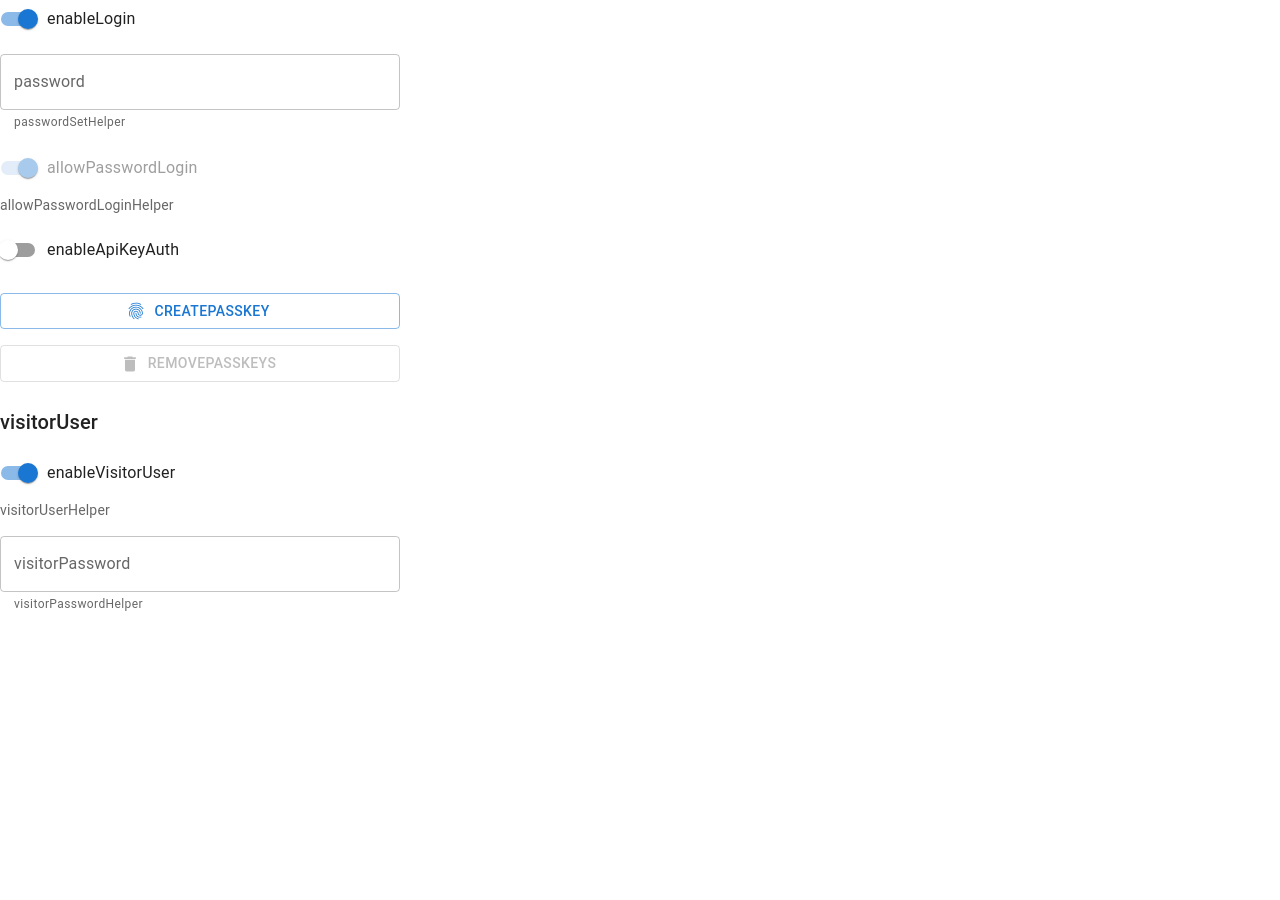
Test case: SecuritySettings › translates WebAuthn permission errors when creating a passkey fails
Click the button "createPasskey" at (200, 311), box x1=0 y1=293 x2=400 y2=329
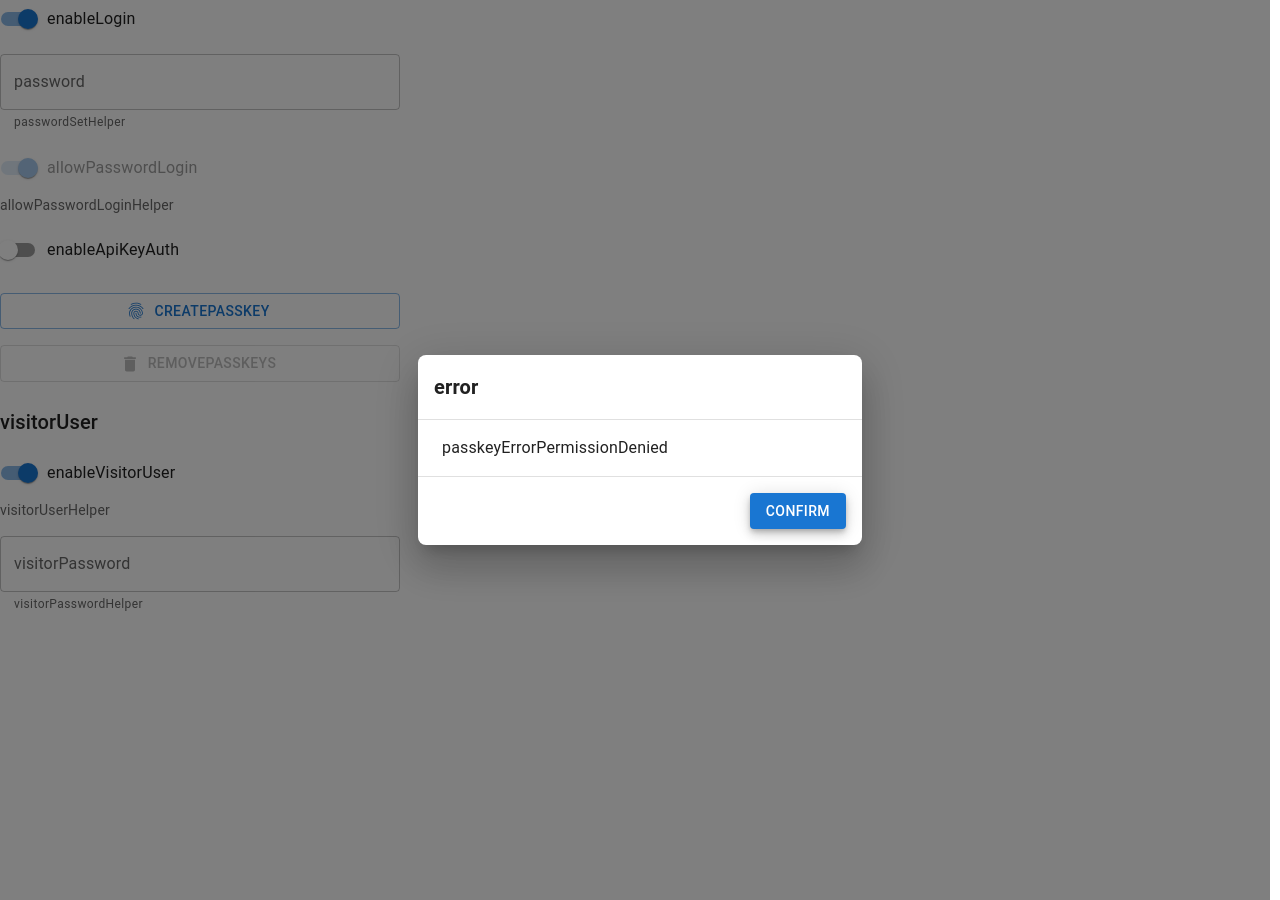
Check: the text "passkeyErrorPermissionDenied" is shown, box x1=442 y1=438 x2=668 y2=457
